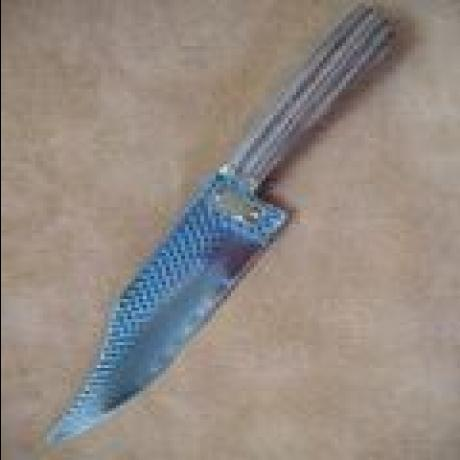weapon: (41, 18, 395, 444)
